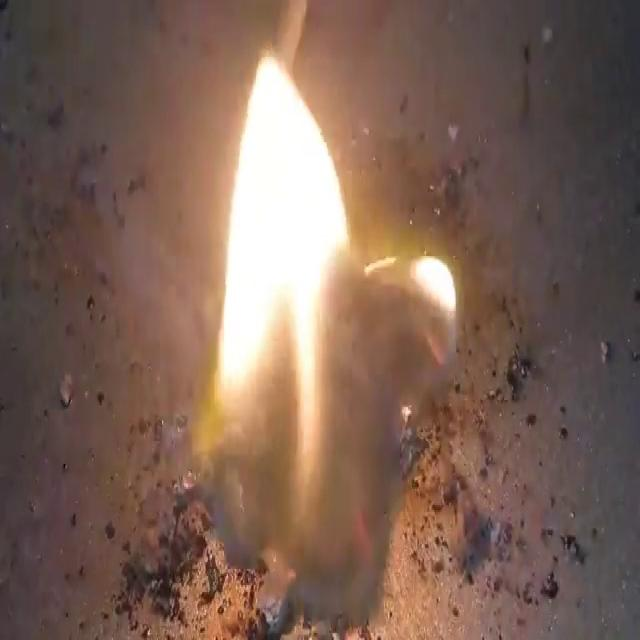Fire: (213, 48, 353, 482)
